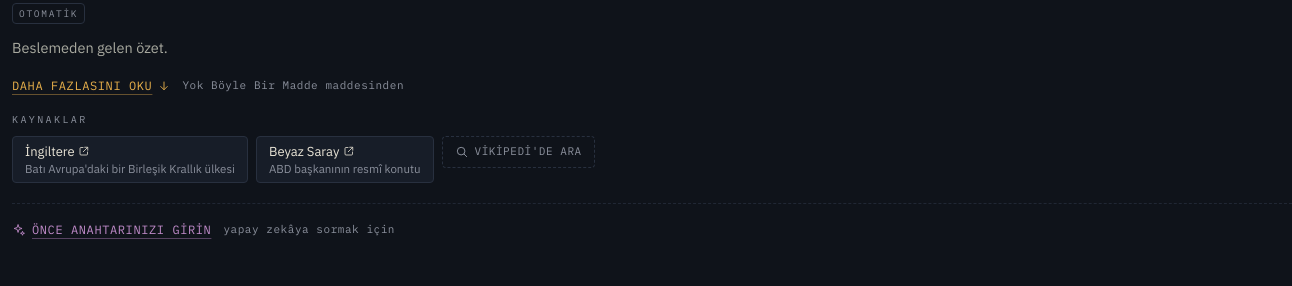
Test case: DetayPaneli — Daha fazlasını oku › hata Türkçe basılır, çipler ve metin yerinde kalır
Click the button "Daha fazlasını oku".
click(91, 86)  # box x1=12 y1=76 x2=170 y2=96
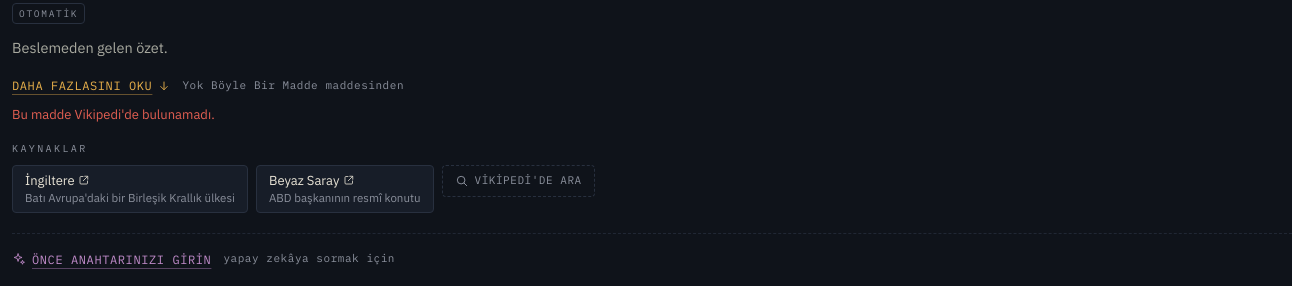
Expected: the text "Beslemeden gelen özet." is shown, x1=12 y1=36 x2=168 y2=60
Result: the text "Bu madde Vikipedi'de bulunamadı." is shown at x1=12 y1=106 x2=215 y2=122
